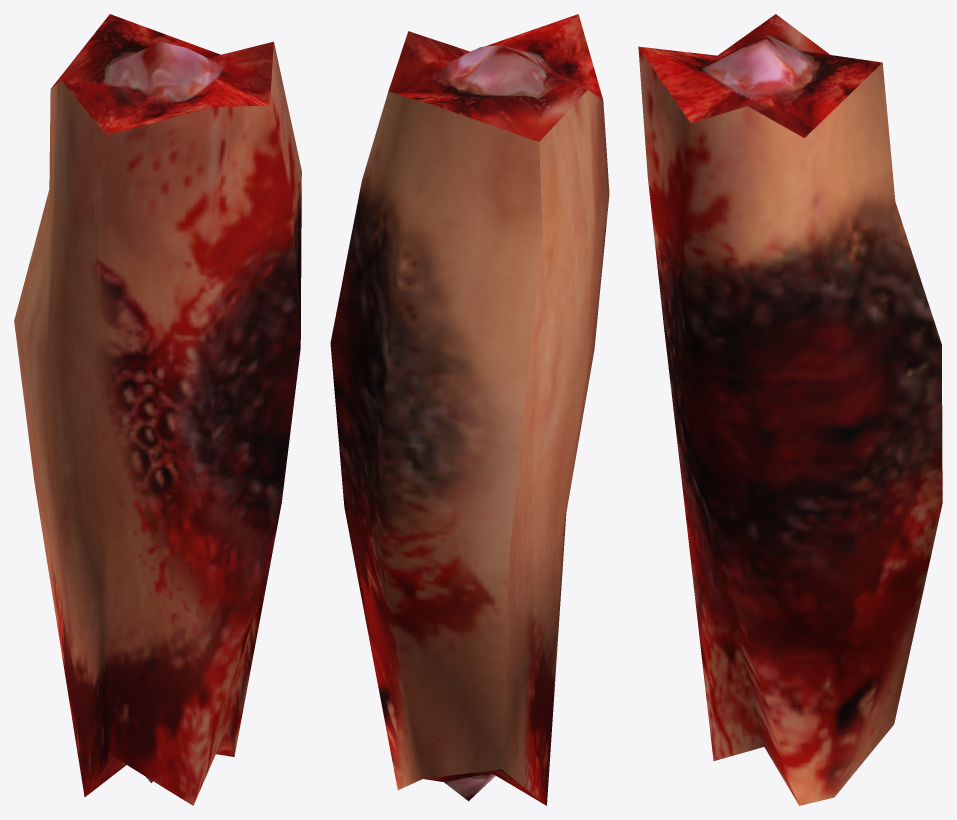
The model's file is male_lt_lowleg.fbx.
3 views of the same model, side by side, from view 1: azimuth 30°, elevation 25°; view 2: azimuth 150°, elevation 25°; view 3: azimuth 270°, elevation 25° (orthographic). The views are drawn at different scales.
Parts seen in each view (by area): view 1: lt_lowleg_gib; view 2: lt_lowleg_gib; view 3: lt_lowleg_gib.
Boxes of the visible parts, <box> form: lt_lowleg_gib: <box>14,14,301,805</box>; lt_lowleg_gib: <box>330,14,609,805</box>; lt_lowleg_gib: <box>638,14,942,805</box>.
Bounding box in the file's own units: 0.1526 × 0.4667 × 0.1757.
